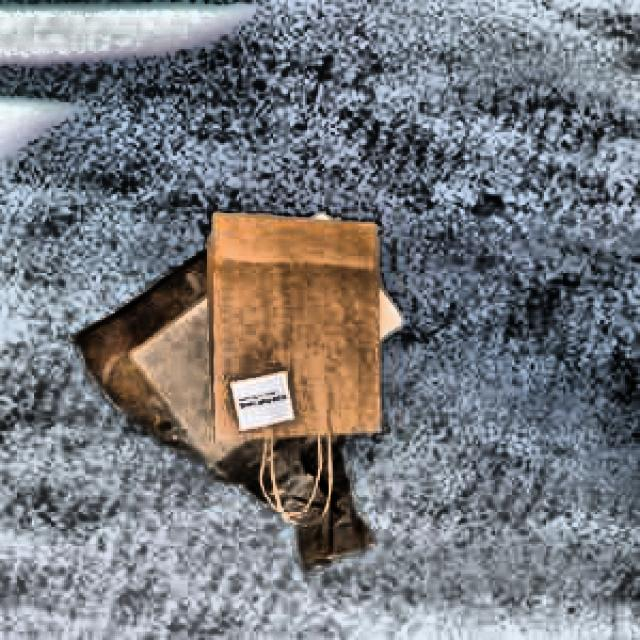Paper-bag: (140, 212, 408, 454), (197, 208, 399, 446)
